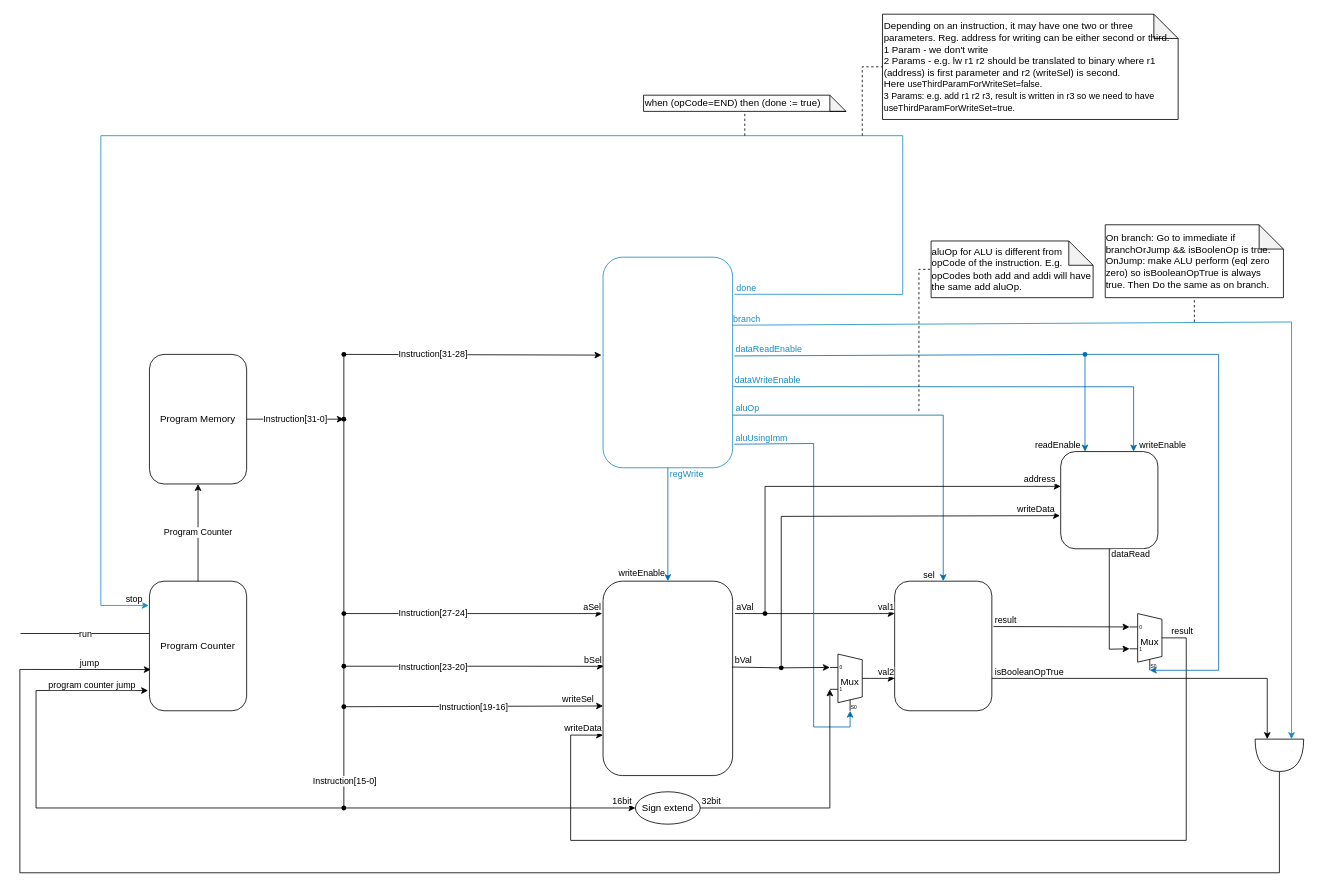
The diagram is 1318 pixels wide and 893 high, and some of its shapes have lost their labels. Here are the shapes that lost their labels. From the top down, the centre of each, then its label:
At [667,362]: "Control Unit".
At [1109,500]: "Data Memory".
At [943,645]: "ALU".
At [667,678]: "Register File".
